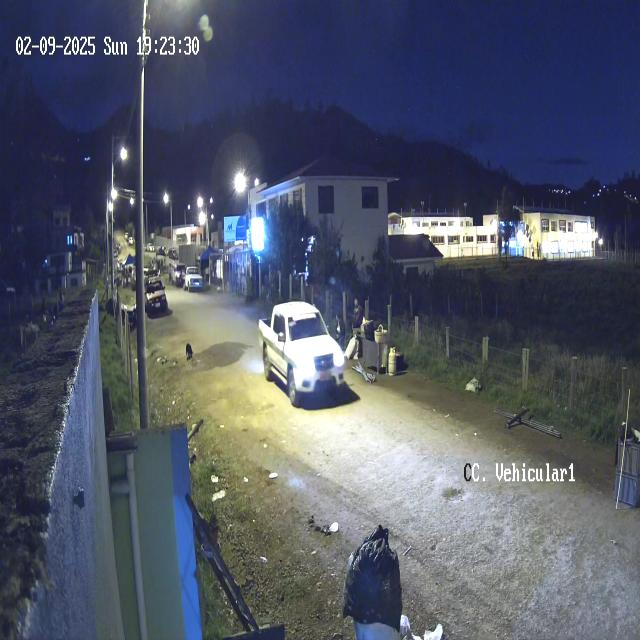CMT: (258, 300, 344, 410)
